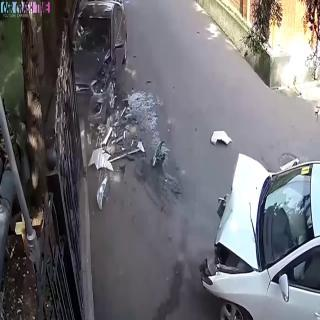Vehicle-Crash_Detected: (61, 9, 303, 303)
